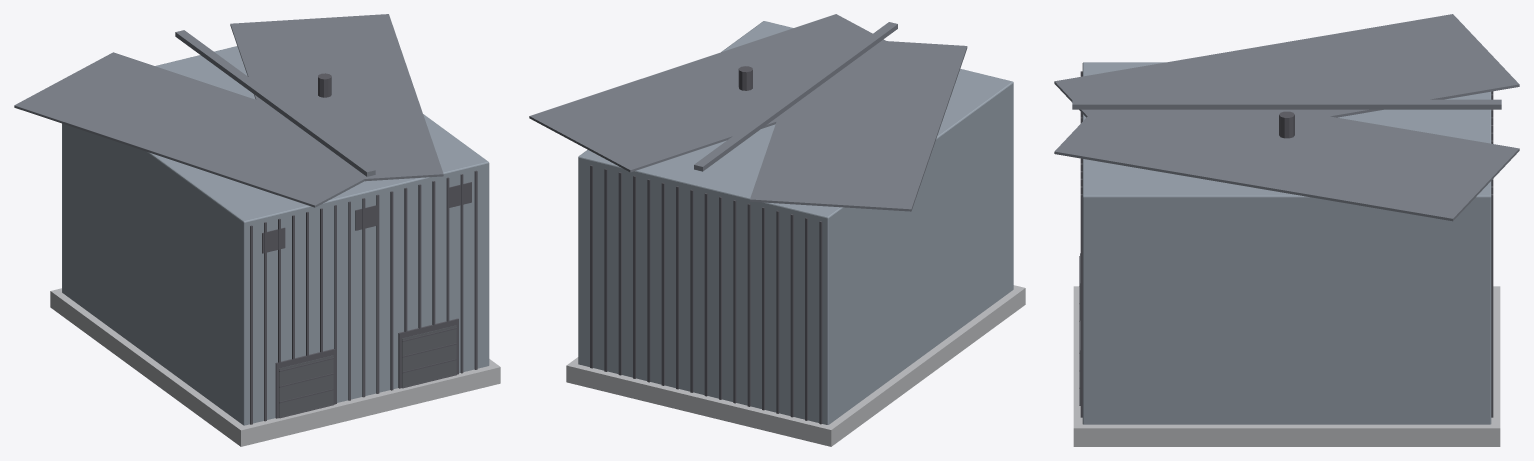
3 views of the same model, side by side, from view 1: azimuth 30°, elevation 25°; view 2: azimuth 150°, elevation 25°; view 3: azimuth 270°, elevation 25° (orthographic). The views are drawn at different scales.
Parts seen in each view (by area): view 1: bt-hw-wh-c_body, bt-hw-wh-c_roof-1, bt-hw-wh-c_roof1, bt-hw-wh-c_skirt, bt-hw-wh-c_ridge, bt-hw-wh-c_door-3.5, bt-hw-wh-c_door3.5, bt-hw-wh-c_rib8_9.0, bt-hw-wh-c_rib10_9.0, bt-hw-wh-c_rib16_9.0, bt-hw-wh-c_rib9_9.0, bt-hw-wh-c_rib15_9.0 (+10 smaller); view 2: bt-hw-wh-c_body, bt-hw-wh-c_roof-1, bt-hw-wh-c_roof1, bt-hw-wh-c_skirt, bt-hw-wh-c_ridge, bt-hw-wh-c_rib14_-9.0, bt-hw-wh-c_rib0_-9.0, bt-hw-wh-c_rib2_-9.0, bt-hw-wh-c_rib5_-9.0, bt-hw-wh-c_rib6_-9.0, bt-hw-wh-c_rib8_-9.0, bt-hw-wh-c_rib9_-9.0 (+10 smaller); view 3: bt-hw-wh-c_body, bt-hw-wh-c_roof-1, bt-hw-wh-c_roof1, bt-hw-wh-c_skirt, bt-hw-wh-c_ridge, bt-hw-wh-c_rib16_9.0, bt-hw-wh-c_rib16_-9.0.
Boxes of the visible parts, x1,y1,x2,y2 form: bt-hw-wh-c_body: (62, 46, 489, 425); bt-hw-wh-c_roof-1: (14, 52, 413, 207); bt-hw-wh-c_roof1: (230, 14, 443, 183); bt-hw-wh-c_skirt: (50, 288, 500, 446); bt-hw-wh-c_ridge: (175, 30, 375, 176); bt-hw-wh-c_door-3.5: (279, 355, 333, 417); bt-hw-wh-c_door3.5: (402, 325, 456, 387); bt-hw-wh-c_rib8_9.0: (362, 198, 365, 397); bt-hw-wh-c_rib10_9.0: (390, 191, 393, 390); bt-hw-wh-c_rib16_9.0: (474, 170, 477, 369); bt-hw-wh-c_rib9_9.0: (376, 194, 379, 393); bt-hw-wh-c_rib15_9.0: (460, 174, 463, 373); bt-hw-wh-c_body: (578, 21, 1013, 424); bt-hw-wh-c_roof-1: (750, 36, 967, 211); bt-hw-wh-c_roof1: (529, 14, 929, 172); bt-hw-wh-c_skirt: (566, 285, 1025, 446); bt-hw-wh-c_ridge: (694, 22, 897, 171); bt-hw-wh-c_rib14_-9.0: (618, 172, 621, 375); bt-hw-wh-c_rib0_-9.0: (819, 221, 822, 424); bt-hw-wh-c_rib2_-9.0: (790, 214, 793, 417); bt-hw-wh-c_rib5_-9.0: (747, 203, 750, 406); bt-hw-wh-c_rib6_-9.0: (733, 200, 736, 403); bt-hw-wh-c_rib8_-9.0: (704, 193, 707, 396); bt-hw-wh-c_rib9_-9.0: (690, 189, 693, 392); bt-hw-wh-c_body: (1082, 62, 1491, 424); bt-hw-wh-c_roof-1: (1054, 14, 1519, 151); bt-hw-wh-c_roof1: (1054, 110, 1519, 221); bt-hw-wh-c_skirt: (1073, 286, 1500, 446); bt-hw-wh-c_ridge: (1072, 99, 1501, 109); bt-hw-wh-c_rib16_9.0: (1080, 194, 1082, 417); bt-hw-wh-c_rib16_-9.0: (1491, 194, 1493, 417).
Size of the model in its own units: 21.35 by 14 by 20.48.
